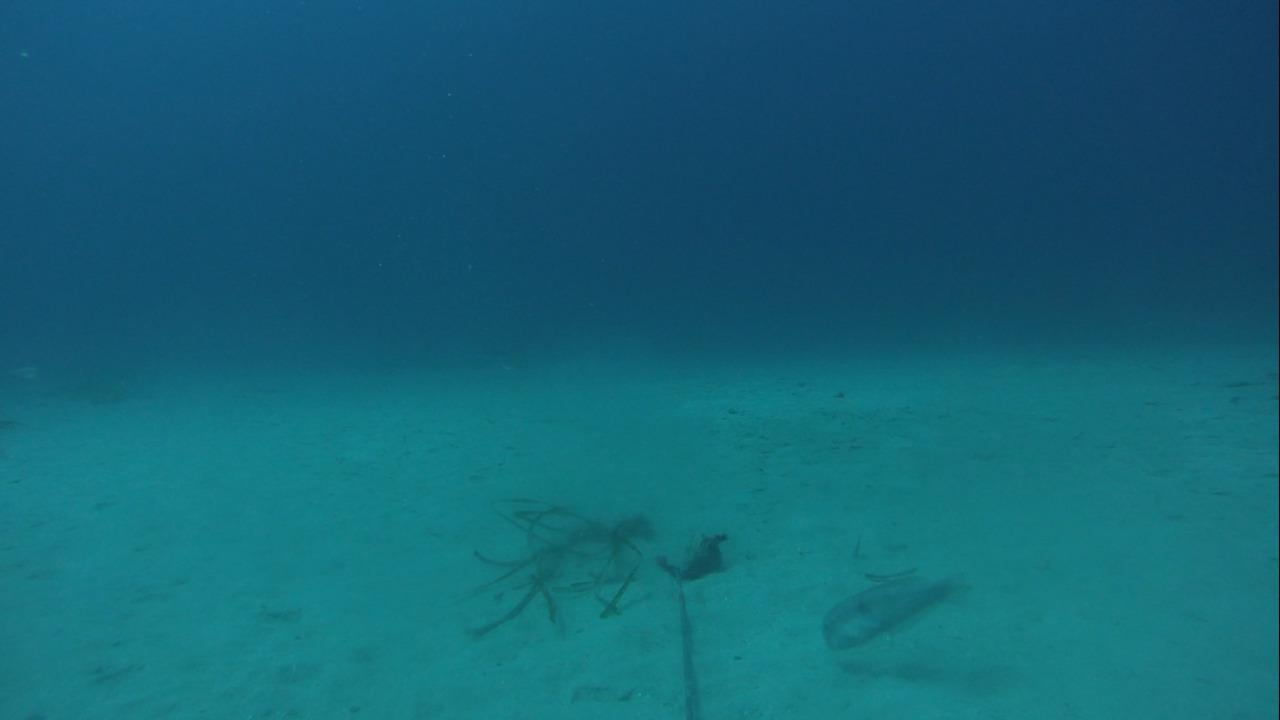raor: (819, 571, 964, 658)
